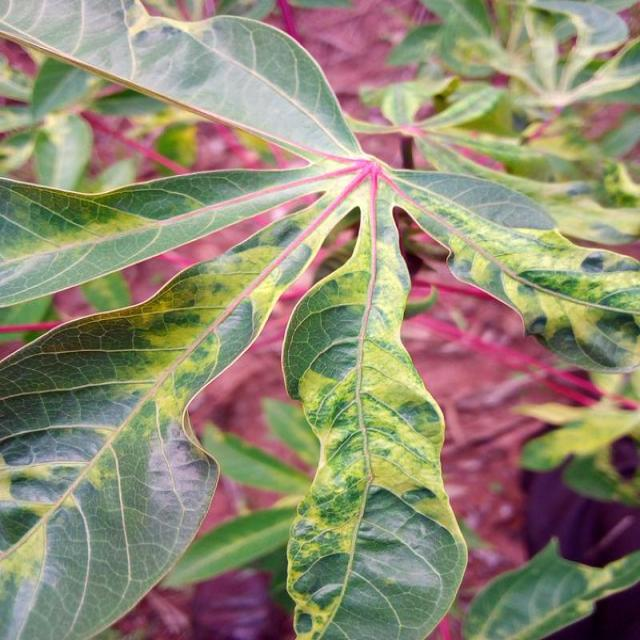cassava leaf: (0, 1, 638, 638), (280, 168, 468, 638)
